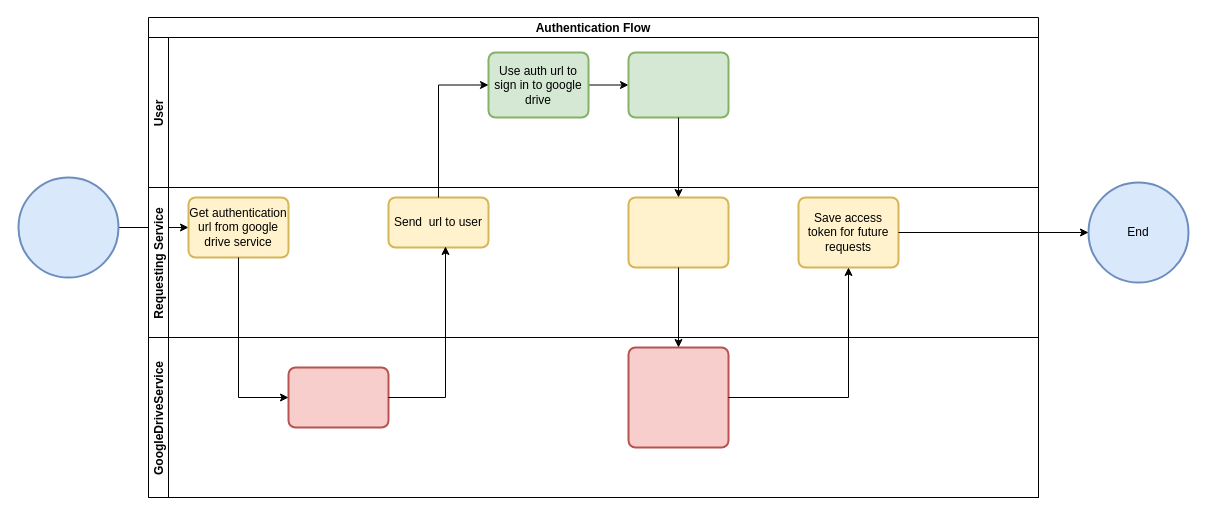
This 1206x515 diagram has some shape labels left out. The centre of each missing label's shape, as x and y in pixels:
Get access token from google and send it to requesting service: point (678, 397)
Get url from google drive and send it to requesting service: point (338, 397)
Send auth code given by google to requesting service: point (678, 84)
Send auth code to google drive service to generate token: point (678, 232)
Start: point (68, 227)
